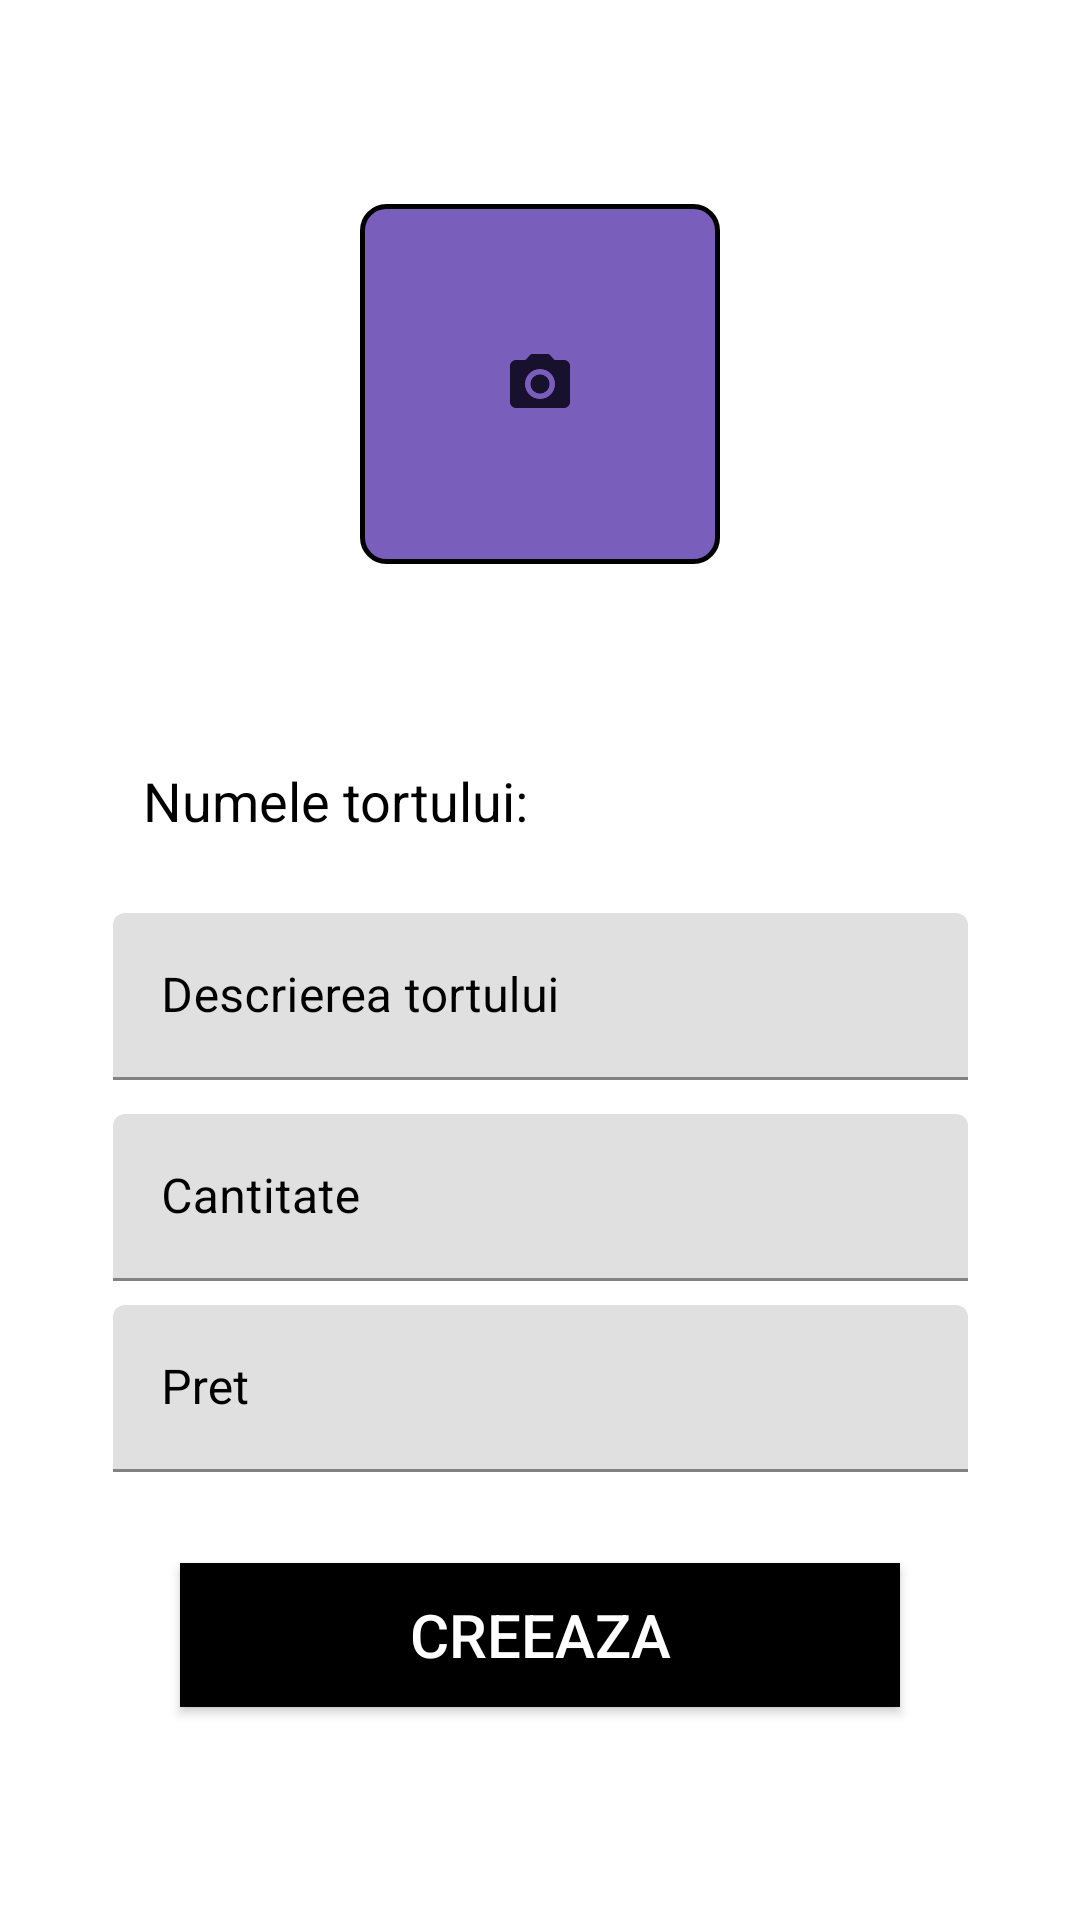

Named icons in this screenshot (1080 x 1920) and their bounding boxes, (x1, y1, x2, y2):
camera: (360, 204, 720, 564)
